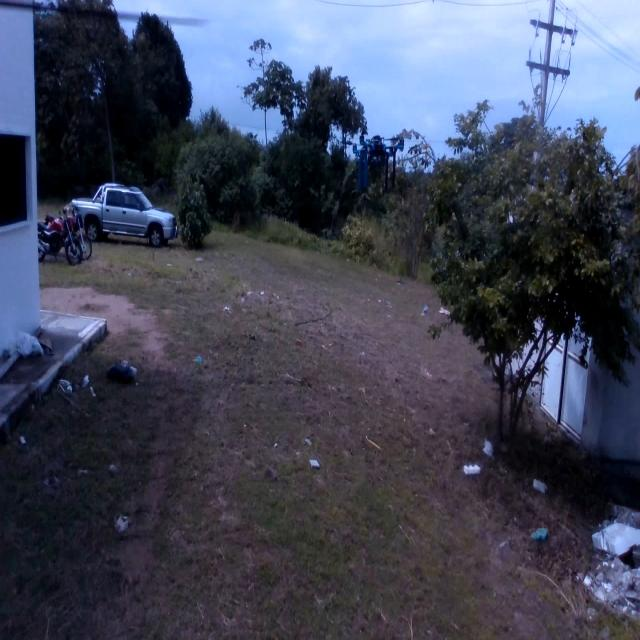-uav-: (341, 113, 411, 206)
